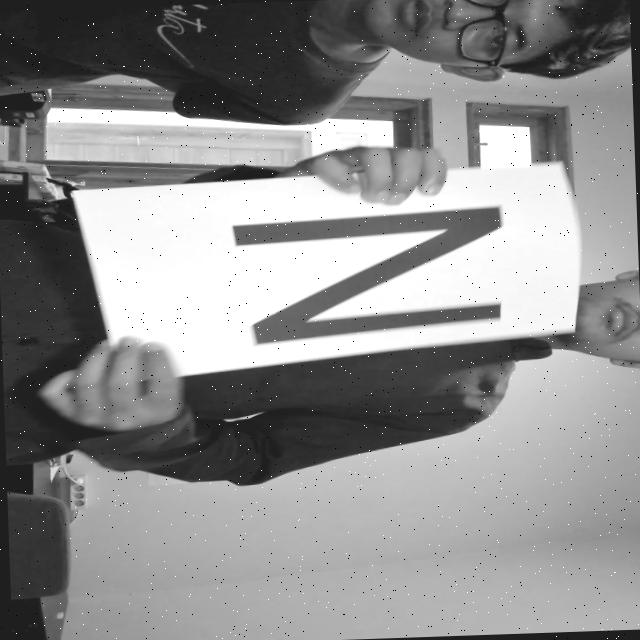n: (205, 194, 537, 380)
